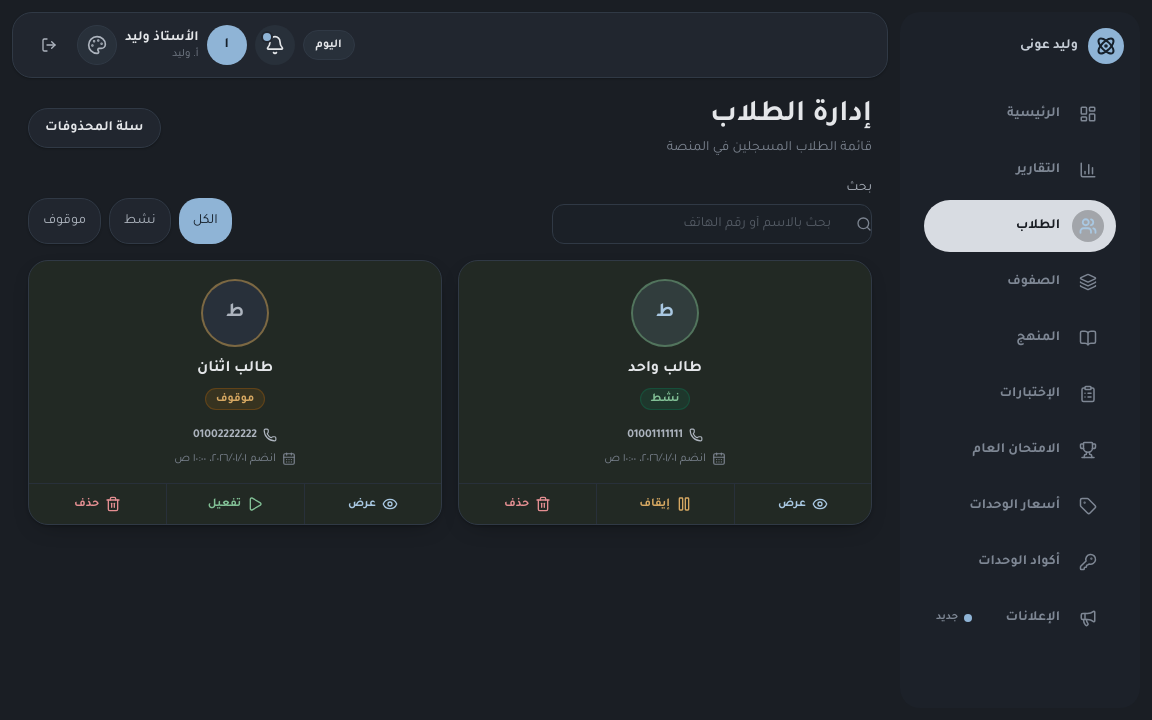
StudentListPage (staff lifecycle) › enables a disabled student after confirmation
The image size is (1152, 720).
Click the button "تفعيل". click: (235, 504)
box: x1=166 y1=484 x2=304 y2=524
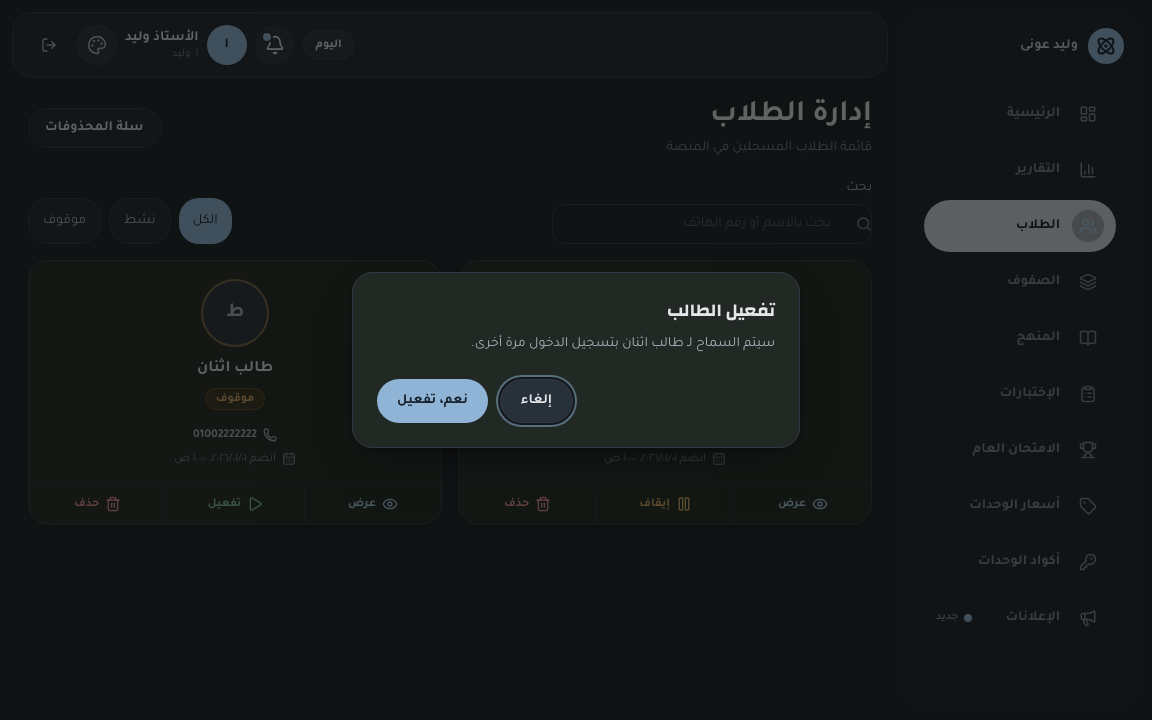
Click the button "نعم، تفعيل". click: (432, 401)
box: x1=377 y1=379 x2=488 y2=423
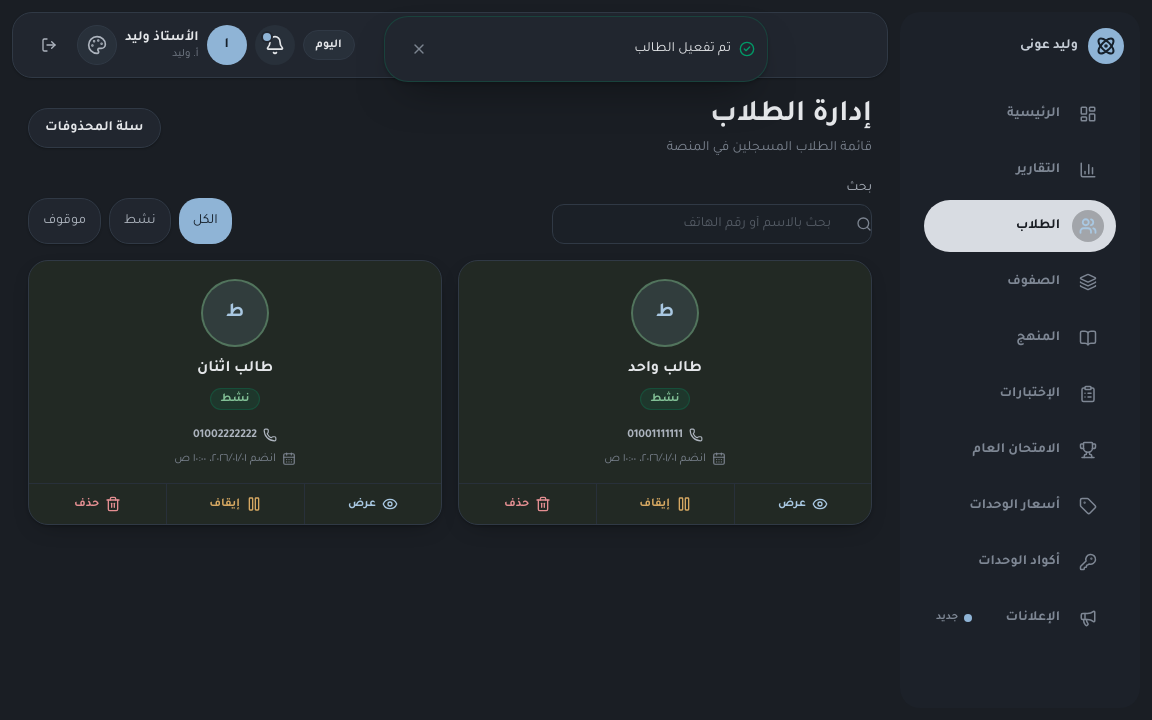
Result: the text "نشط" below "طالب اثنان" is shown at x1=221 y1=393 x2=250 y2=405
